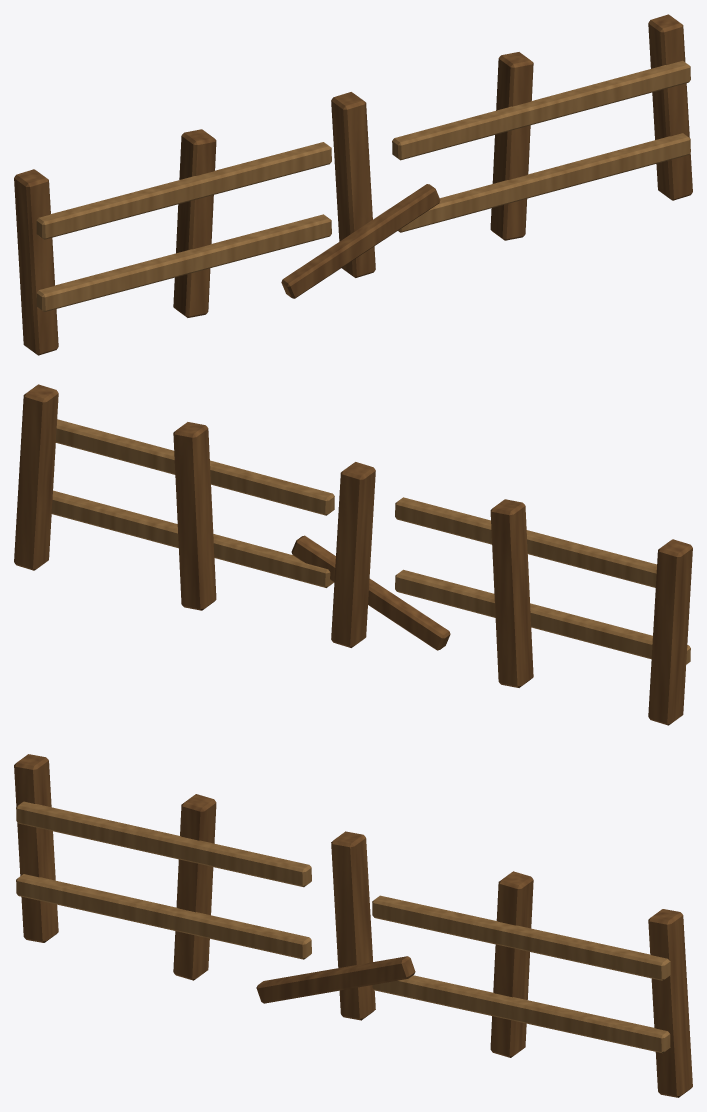
File: hunter_fence.glb
3 views of the same model, one above another, from view 1: azimuth 30°, elevation 25°; view 2: azimuth 150°, elevation 25°; view 3: azimuth 330°, elevation 25° (orthographic).
Visible parts, largest first — view 1: hunter_fence_Mesh; view 2: hunter_fence_Mesh; view 3: hunter_fence_Mesh.
Boxes of the visible parts, left/top/right/bottom form: hunter_fence_Mesh: left=14, top=14, right=692, bottom=355; hunter_fence_Mesh: left=14, top=384, right=692, bottom=725; hunter_fence_Mesh: left=14, top=754, right=692, bottom=1097.
Size of the model in its own units: 4.63 by 1.17 by 0.29.
Materials: 1 (1 with a texture image).
